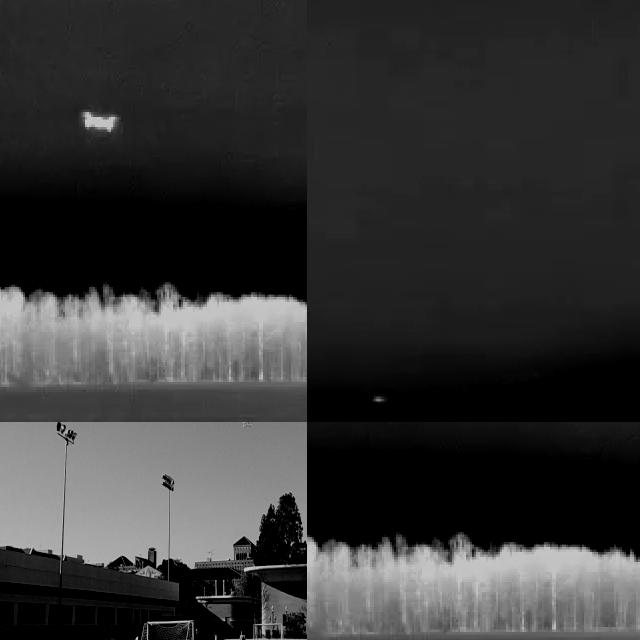0: (362, 394, 390, 414)
1: (69, 107, 129, 142)
drone: (232, 422, 260, 430)
